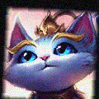Yuumi: (3, 11, 98, 98)
